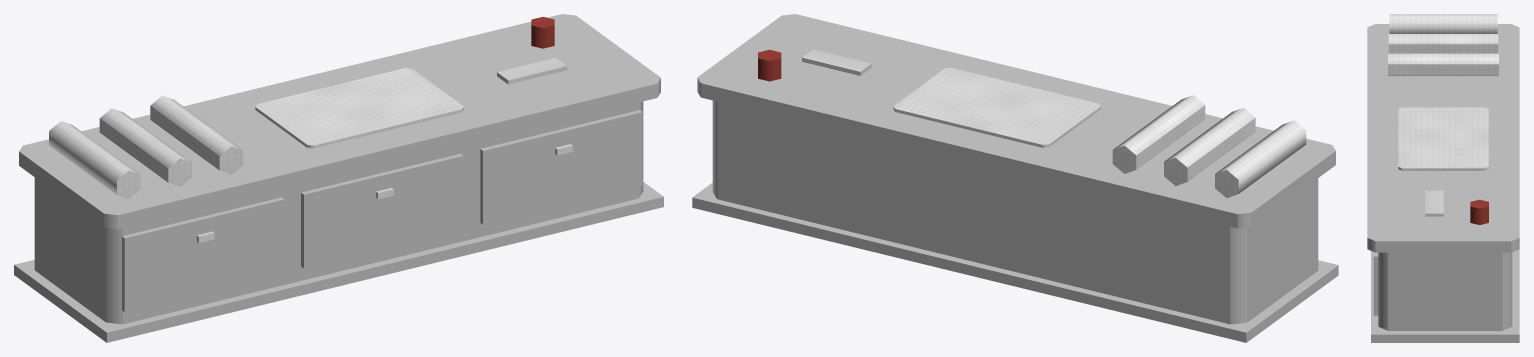
File: bench_tailor.obj
3 views of the same model, side by side, from view 1: azimuth 30°, elevation 25°; view 2: azimuth 150°, elevation 25°; view 3: azimuth 270°, elevation 25° (orthographic). The views are drawn at different scales.
Visible parts, largest first — view 1: worktop, cabinet, left_door, right_door, middle_door, plinth, fabric_workpiece, cushion_roll, blanket_roll, cloth_roll, hand_tailoring_tool, thread_spool; view 2: cabinet, worktop, plinth, fabric_workpiece, cushion_roll, blanket_roll, cloth_roll, hand_tailoring_tool, thread_spool; view 3: worktop, cabinet, fabric_workpiece, plinth, cushion_roll, blanket_roll, cloth_roll, hand_tailoring_tool, thread_spool, right_door.
Boxes of the visible parts, x1,y1,x2,y2 form: worktop: (19,14,660,229); cabinet: (34,101,643,324); left_door: (122,197,284,312); right_door: (480,110,642,224); middle_door: (301,154,463,268); plinth: (14,182,663,342); fabric_workpiece: (255,68,463,148); cushion_roll: (150,95,243,174); blanket_roll: (99,108,191,186); cloth_roll: (49,121,140,198); hand_tailoring_tool: (497,58,567,84); thread_spool: (531,17,554,48); cabinet: (712,100,1318,324); worktop: (697,14,1335,228); plinth: (692,183,1338,342); fabric_workpiece: (893,67,1100,147); cushion_roll: (1112,95,1205,173); blanket_roll: (1164,108,1255,185); cloth_roll: (1215,120,1306,197); hand_tailoring_tool: (802,49,871,75); thread_spool: (758,49,781,81); worktop: (1367,24,1519,252); cabinet: (1378,252,1512,330); fabric_workpiece: (1398,107,1488,170); plinth: (1371,249,1519,342); cushion_roll: (1388,53,1498,76); blanket_roll: (1388,34,1498,53); cloth_roll: (1389,14,1497,33); hand_tailoring_tool: (1425,190,1443,216); thread_spool: (1470,199,1488,224); right_door: (1373,252,1378,315).
Size of the model in its own units: 2.84 by 0.76 by 0.84.
